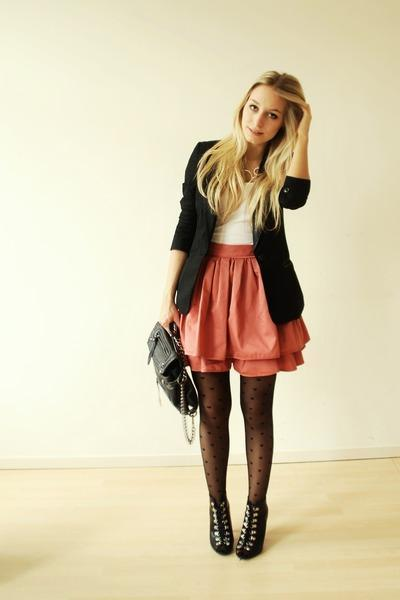bag: (147, 324, 204, 415)
jacket: (171, 141, 309, 329)
shirt: (220, 182, 266, 244)
shoe: (209, 492, 267, 558)
shorts: (161, 228, 309, 395)
